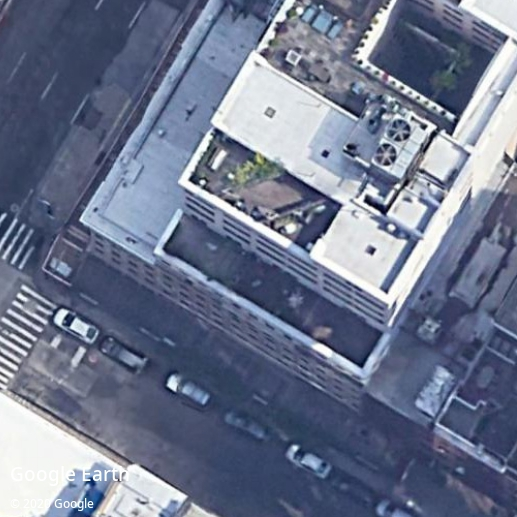Vent: (389, 119, 411, 142), (375, 143, 396, 165)
